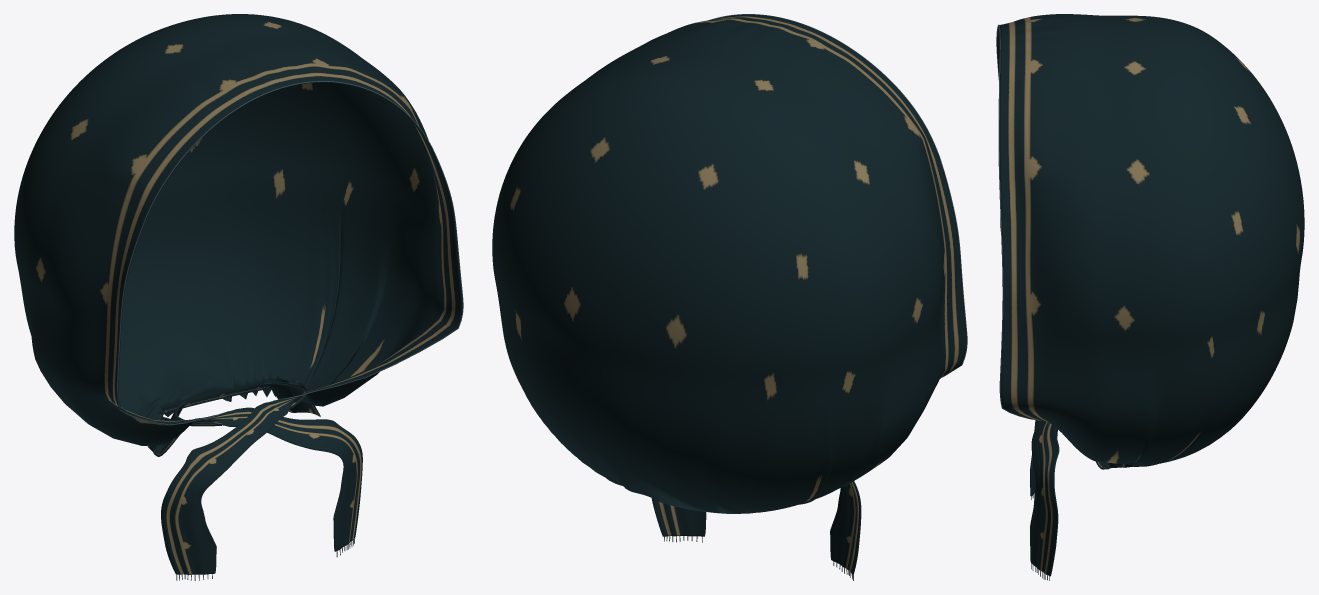
File: Masculine-taper-tshirt-pashmina250-headgear.glb
3 views of the same model, side by side, from view 1: azimuth 30°, elevation 25°; view 2: azimuth 150°, elevation 25°; view 3: azimuth 270°, elevation 25° (orthographic). The views are drawn at different scales.
Visible parts, largest first — view 1: 226 headgear / Headwear / continuous woven pashmina239, 226 headgear / Headwear / face edge239; view 2: 226 headgear / Headwear / continuous woven pashmina239, 226 headgear / Headwear / face edge239; view 3: 226 headgear / Headwear / continuous woven pashmina239, 226 headgear / Headwear / face edge239.
Boxes of the visible parts, x1=… form: 226 headgear / Headwear / continuous woven pashmina239: x1=14, y1=14, x2=462, y2=574; 226 headgear / Headwear / face edge239: x1=117, y1=81, x2=463, y2=425; 226 headgear / Headwear / continuous woven pashmina239: x1=492, y1=14, x2=966, y2=574; 226 headgear / Headwear / face edge239: x1=709, y1=14, x2=967, y2=377; 226 headgear / Headwear / continuous woven pashmina239: x1=997, y1=14, x2=1304, y2=576; 226 headgear / Headwear / face edge239: x1=996, y1=24, x2=1035, y2=419.
Size of the model in its own units: 1.07 by 1.38 by 0.7639.
3 materials, 1 textured.
